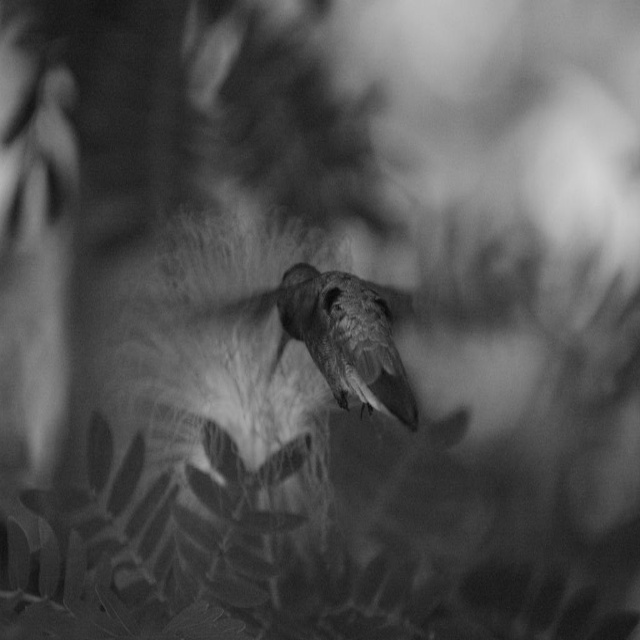Sparrow: (271, 257, 424, 438)
